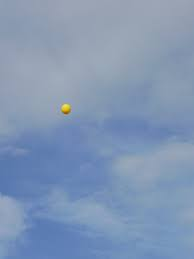Balloon: (60, 103, 72, 114)
